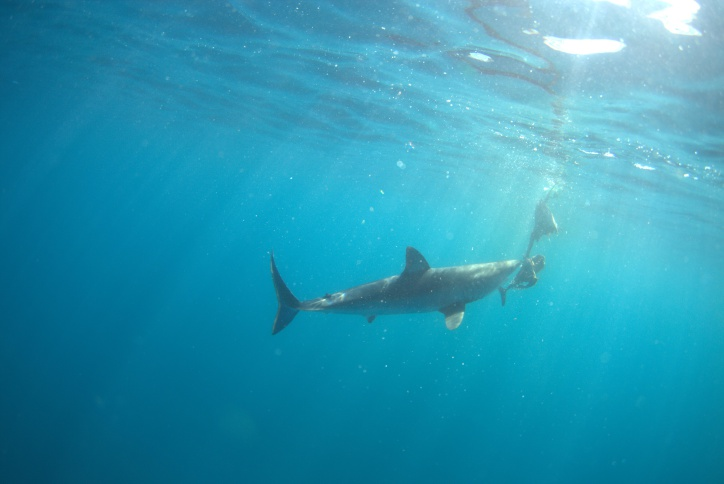Mako: (260, 234, 540, 347)
